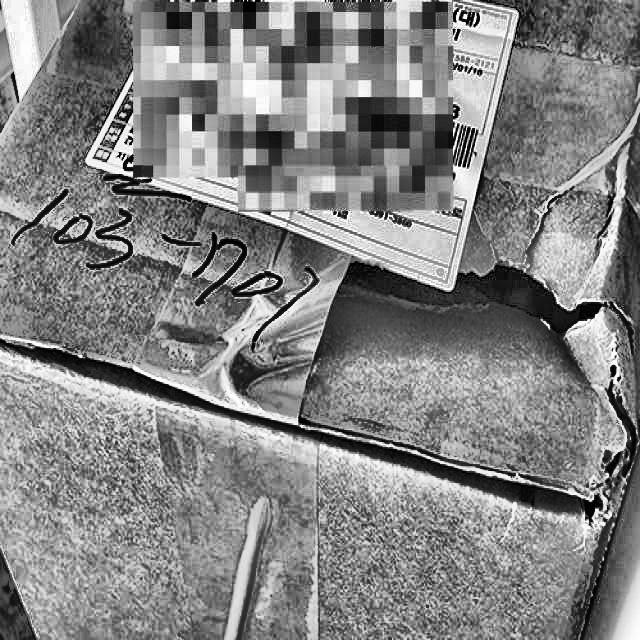box: (0, 0, 639, 639)
hole: (330, 256, 637, 354), (574, 384, 640, 529)
